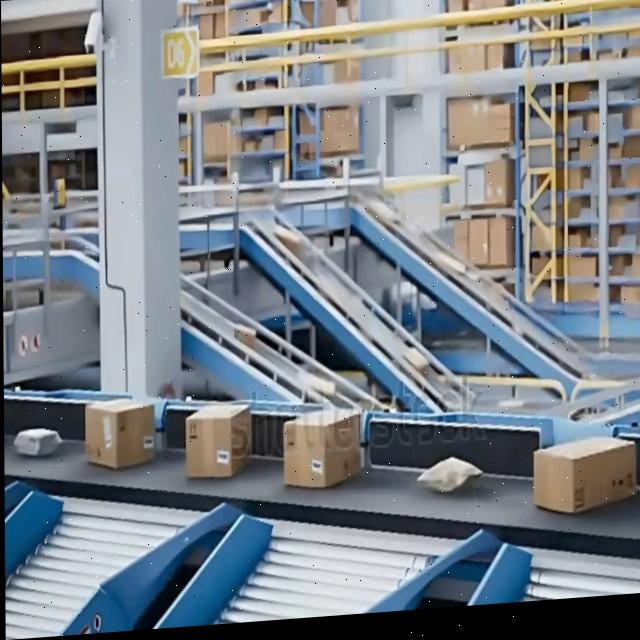product 1: (281, 404, 362, 490), (183, 401, 251, 480), (90, 394, 155, 471)
product 2: (417, 450, 483, 496)
